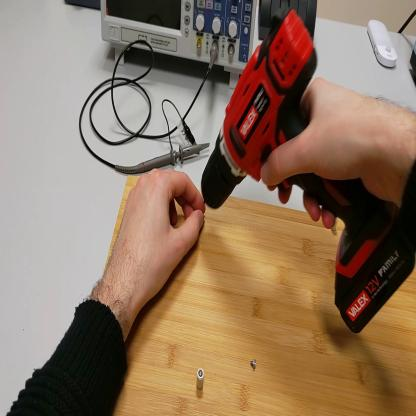electric screwdriver: (200, 7, 414, 333)
hand: (262, 77, 394, 224), (114, 169, 207, 307)
oscilloscope: (101, 3, 257, 87)
oscilloscope probe tip: (132, 144, 212, 177)
socket: (66, 1, 99, 12)
working area: (107, 177, 416, 416)
